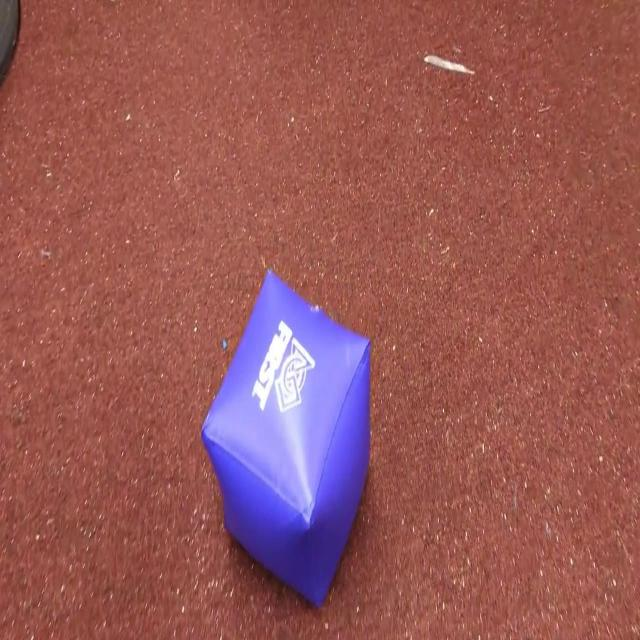frc_cube: (200, 267, 370, 605)
